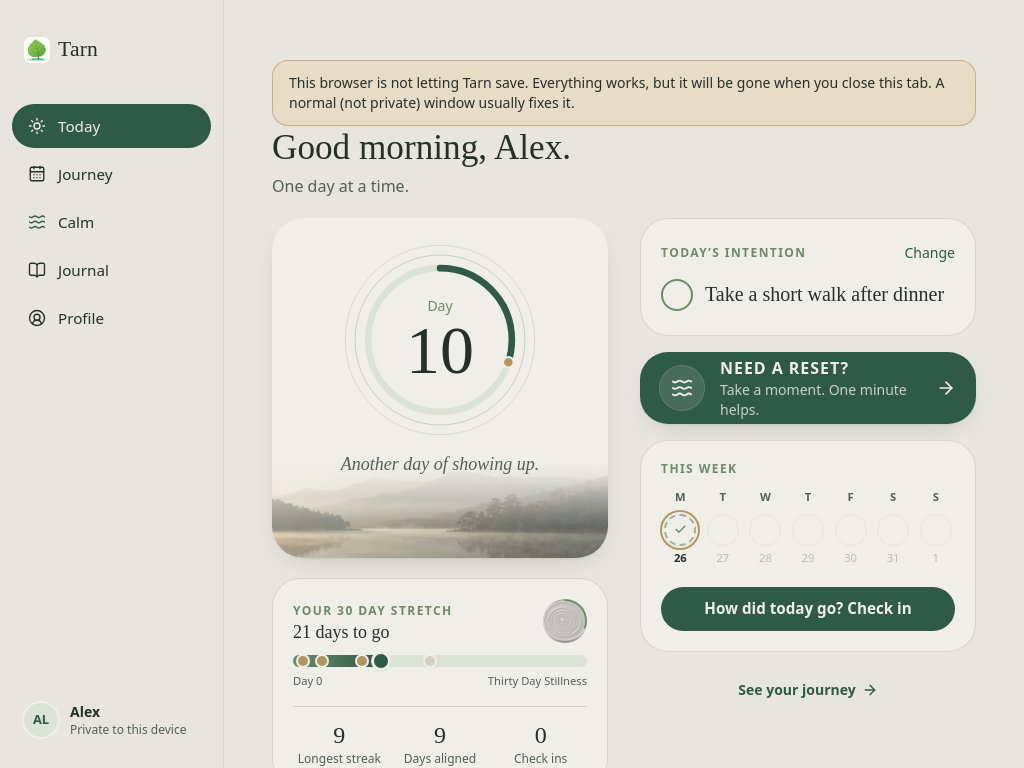
it: today › shows the day, the stretch track, the week of ticks and one reset action
This screenshot has width=1024, height=768.
Check: the picture named "day 10, current streak 9 days" is shown, box left=342, top=242, right=538, bottom=438
Check: the progress indicator named "9 of 30 days" is shown, box left=293, top=655, right=587, bottom=667
What coordinates should you click on to do the following:
click the checkbox labelled "Take a short walk after dinner"
I would click on:
 (808, 295)
Its box is left=661, top=275, right=955, bottom=315.
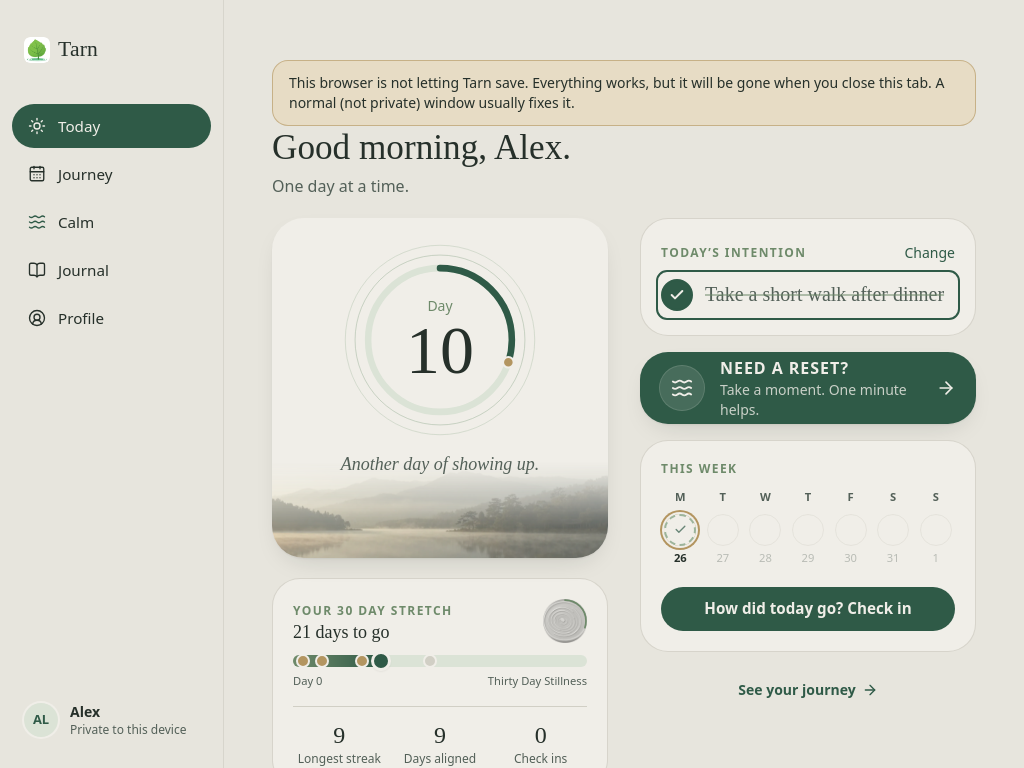
What coordinates should you click on to do the following:
click the button with aria-label "Check in for today"
I would click on:
 (808, 609)
Its box is left=661, top=587, right=955, bottom=631.
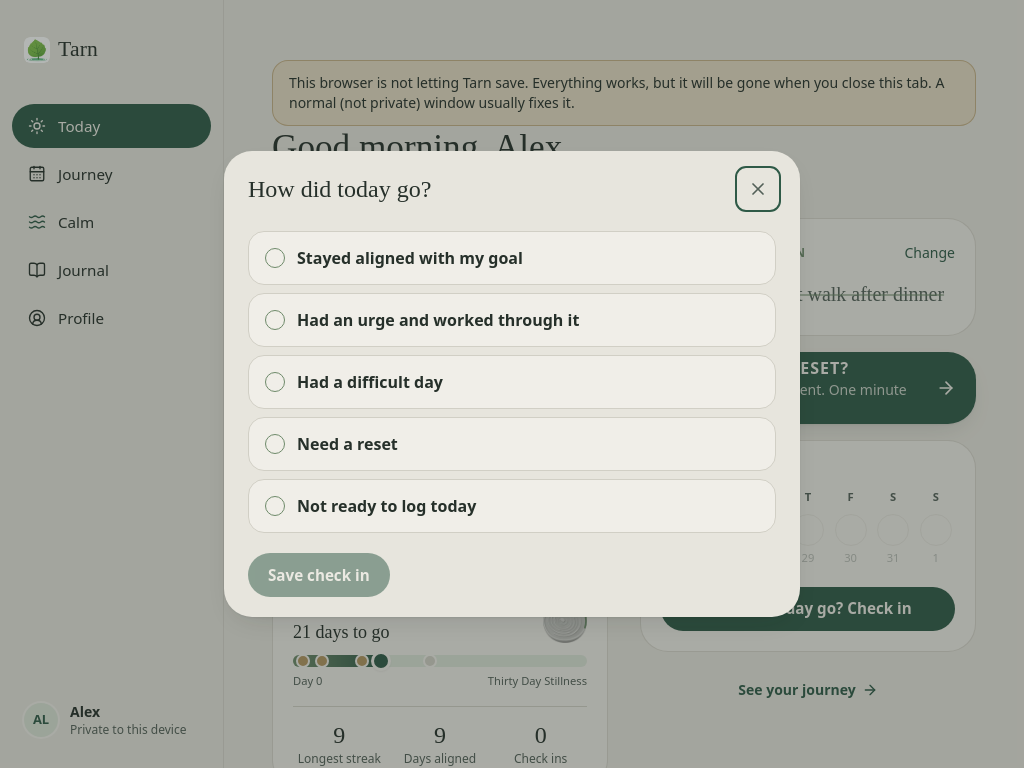
What coordinates should you click on to do the following:
click the radio button labelled "Stayed aligned with my goal"
I would click on:
 (512, 258)
Its box is left=248, top=231, right=776, bottom=285.
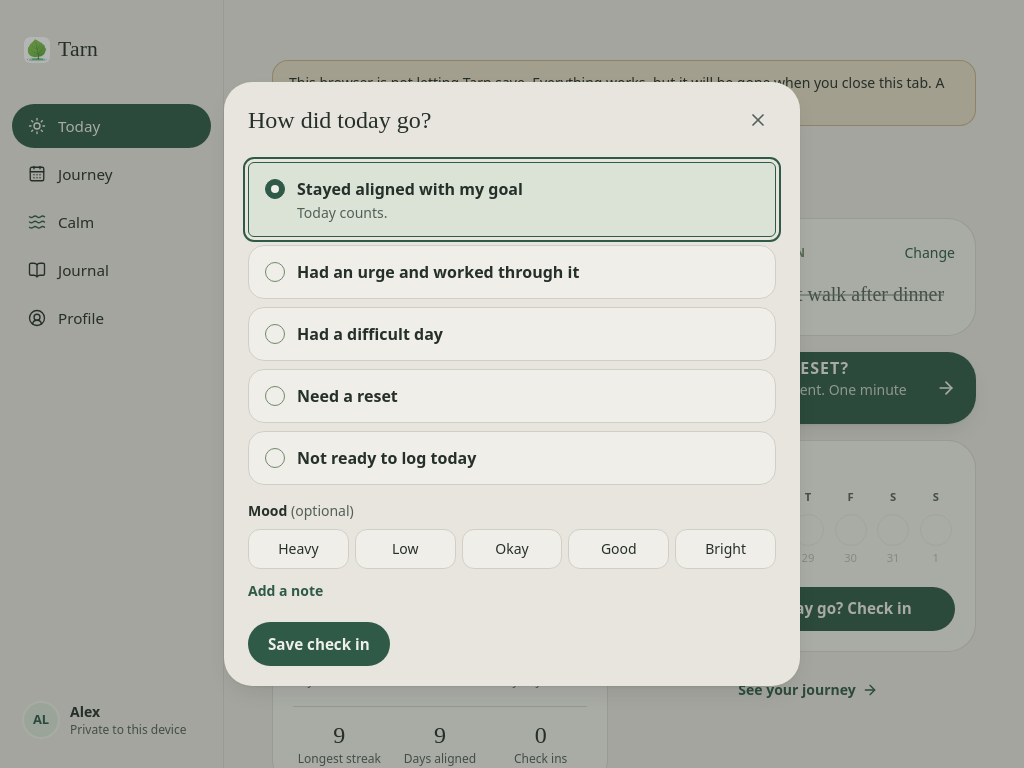
What coordinates should you click on to do the following:
click the button "Save check in"
I would click on:
 (319, 644)
Its box is left=248, top=622, right=390, bottom=666.
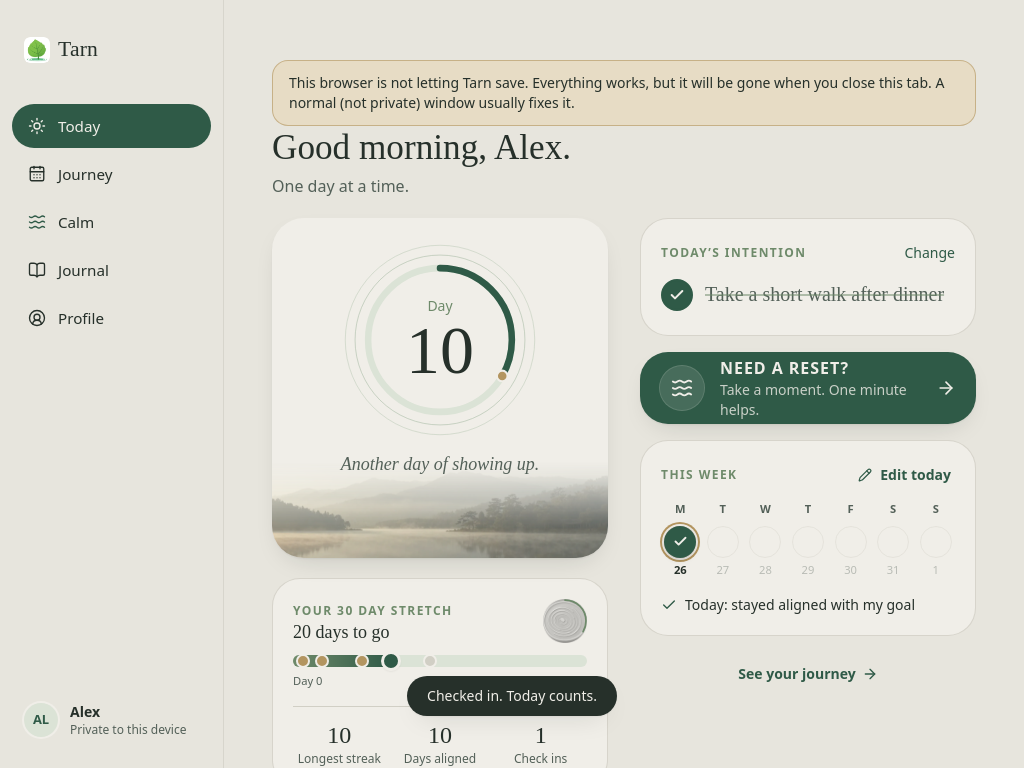
Check: the text "Checked in. Today counts." is shown, box left=407, top=676, right=617, bottom=716
Check: the picture named "current streak 10 days" is shown, box left=342, top=242, right=538, bottom=438
Check: the button named "checked in: Stayed aligned with my goal" is shown, box left=661, top=522, right=700, bottom=583
